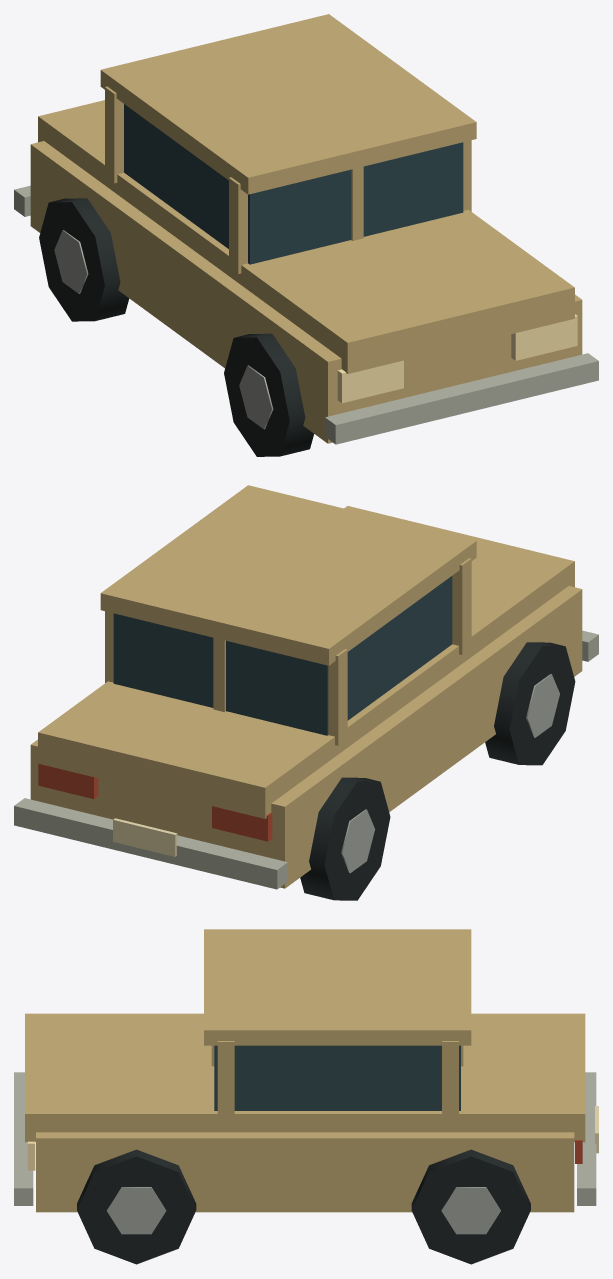
The model's file is raval-80.glb.
The picture shows the model from 3 angles, top to bottom: view 1: azimuth 30°, elevation 25°; view 2: azimuth 150°, elevation 25°; view 3: azimuth 270°, elevation 25°; orthographic projection. The views are drawn at different scales.
Bounding box in the file's own units: 2.32 × 1.89 × 4.51.
